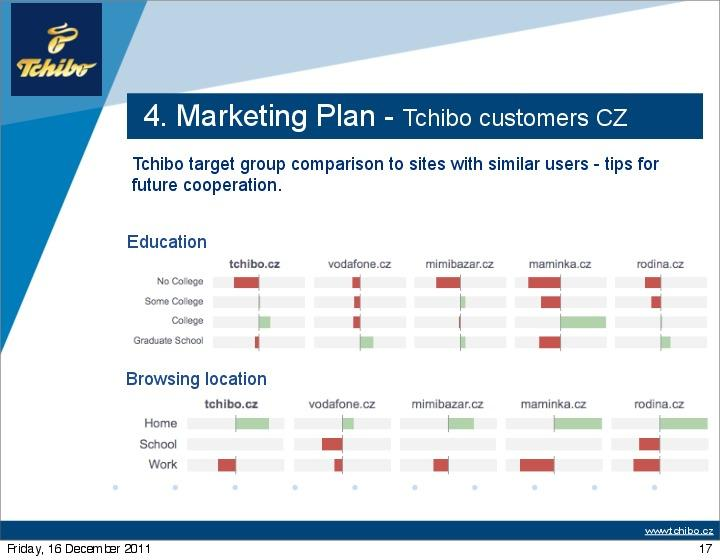paragraph: (120, 146, 715, 488)
title: (138, 96, 645, 135)
